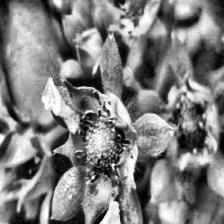Blossom Blight: (72, 89, 139, 201)
